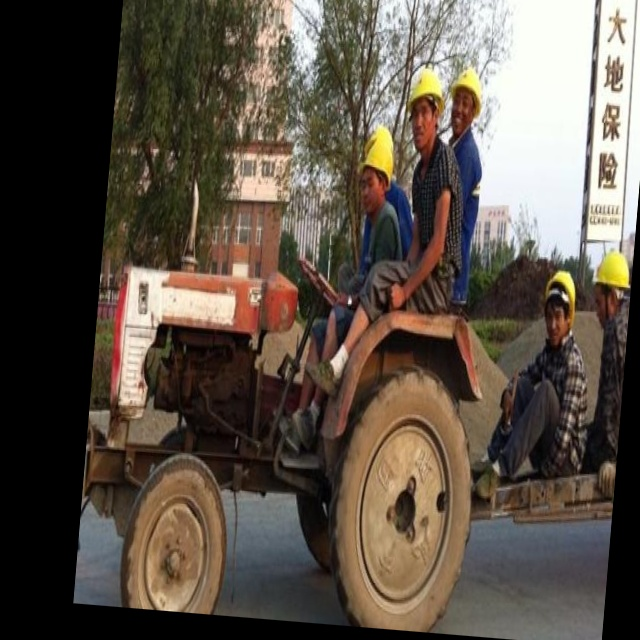Con_Casco: (399, 63, 447, 156)
